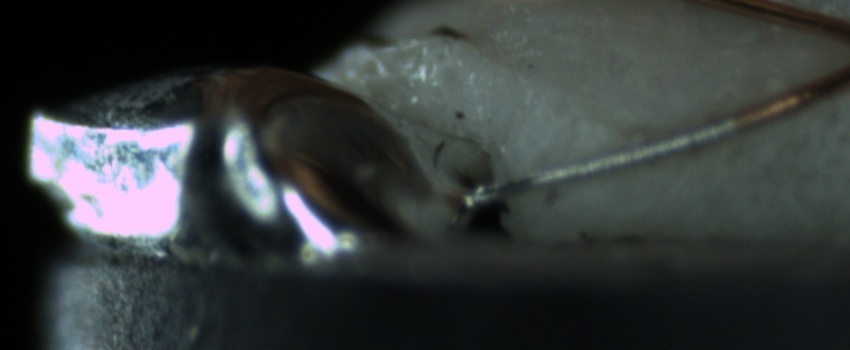TS: (465, 119, 727, 206)
